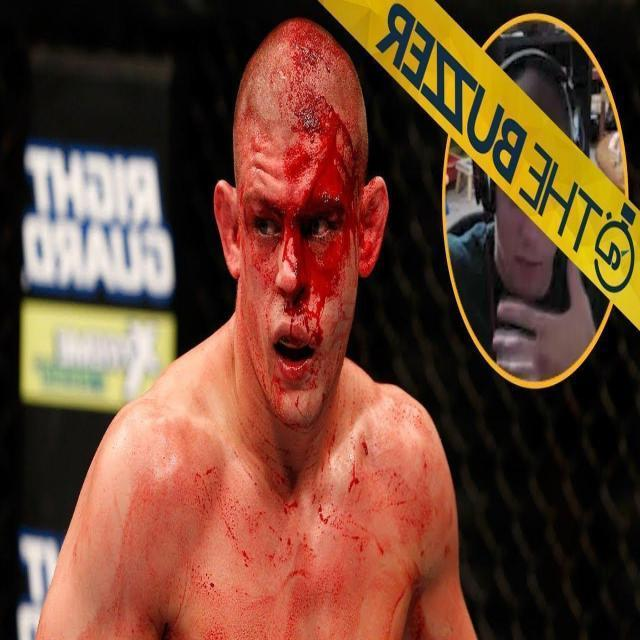flood: (236, 14, 366, 438)
